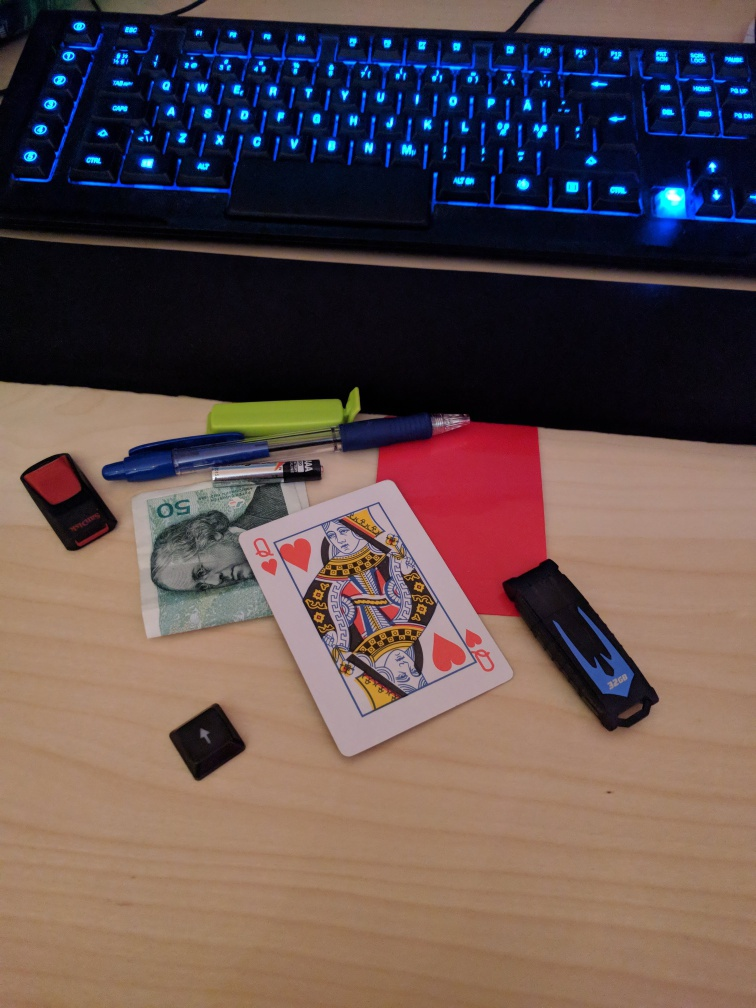queen: (237, 478, 514, 760)
